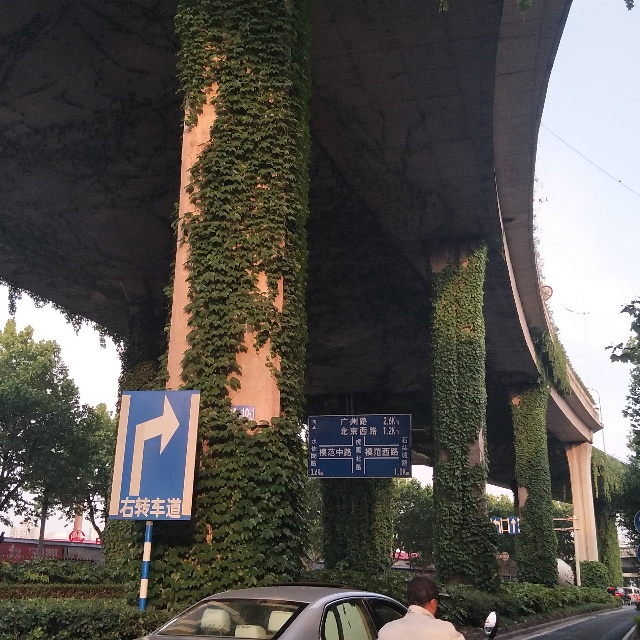left: (490, 517, 503, 537)
right: (126, 394, 182, 503)
straight: (509, 518, 520, 534)
